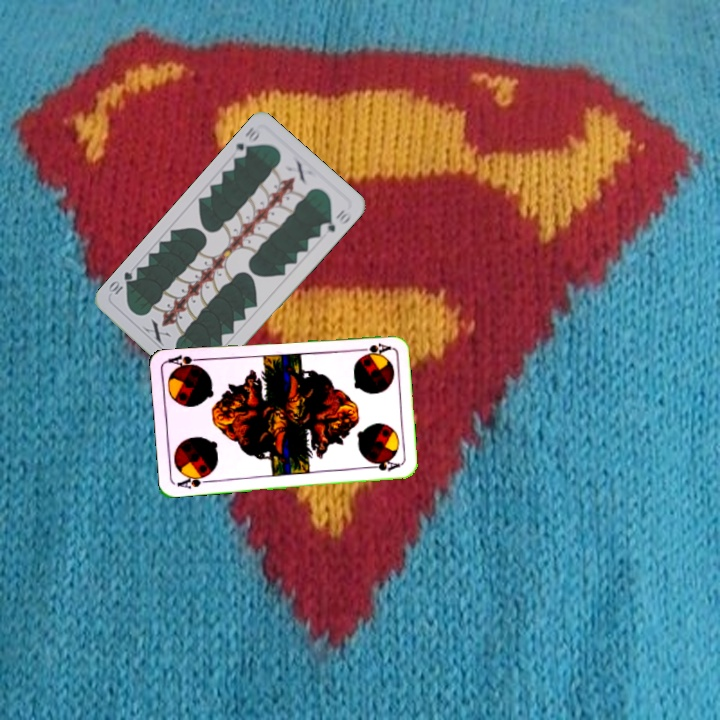G10: (229, 122, 264, 161)
SA: (173, 470, 214, 492), (352, 339, 393, 357)
